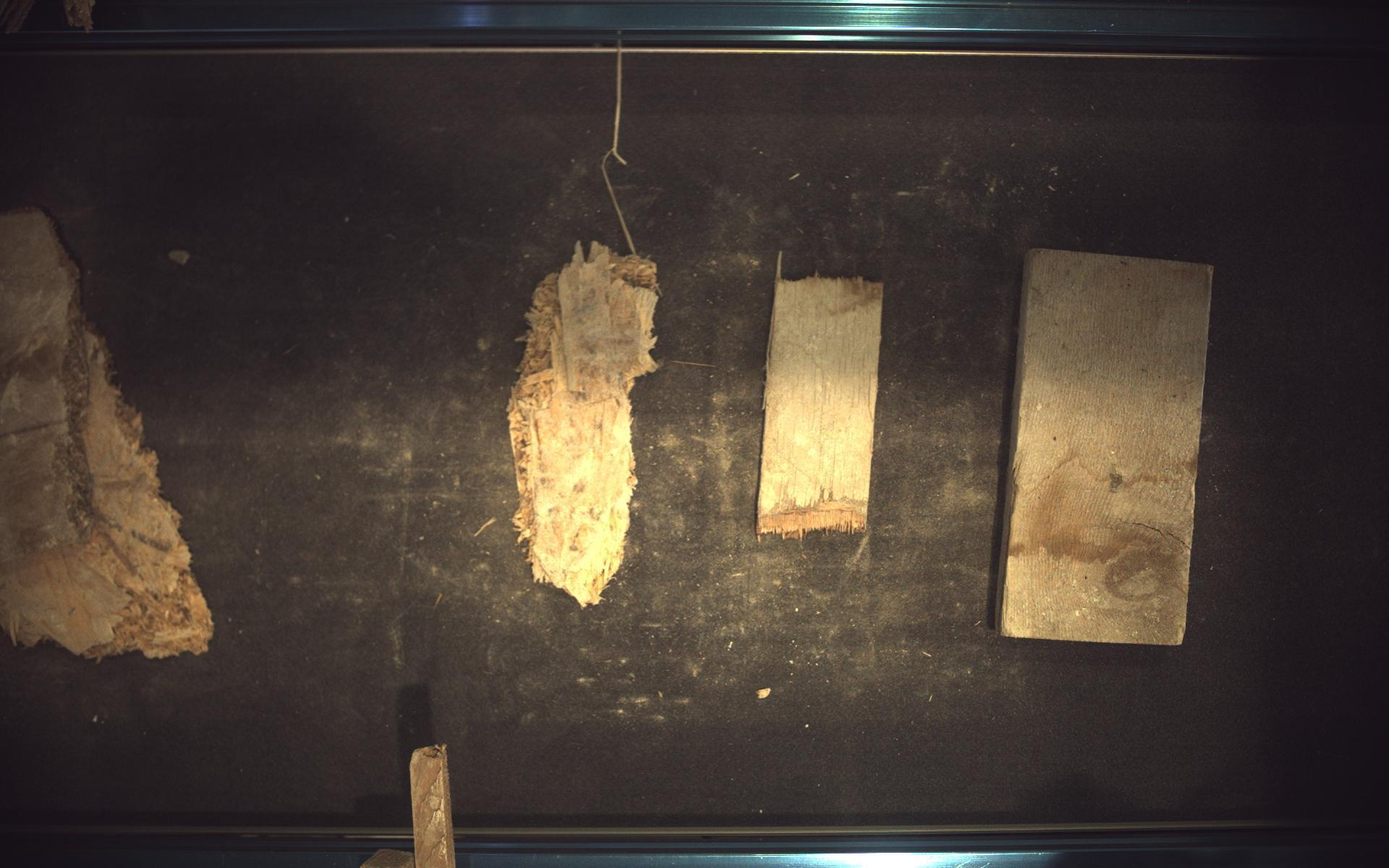wood: (1, 208, 212, 659), (1000, 248, 1216, 646), (509, 241, 659, 607), (758, 251, 885, 538)
